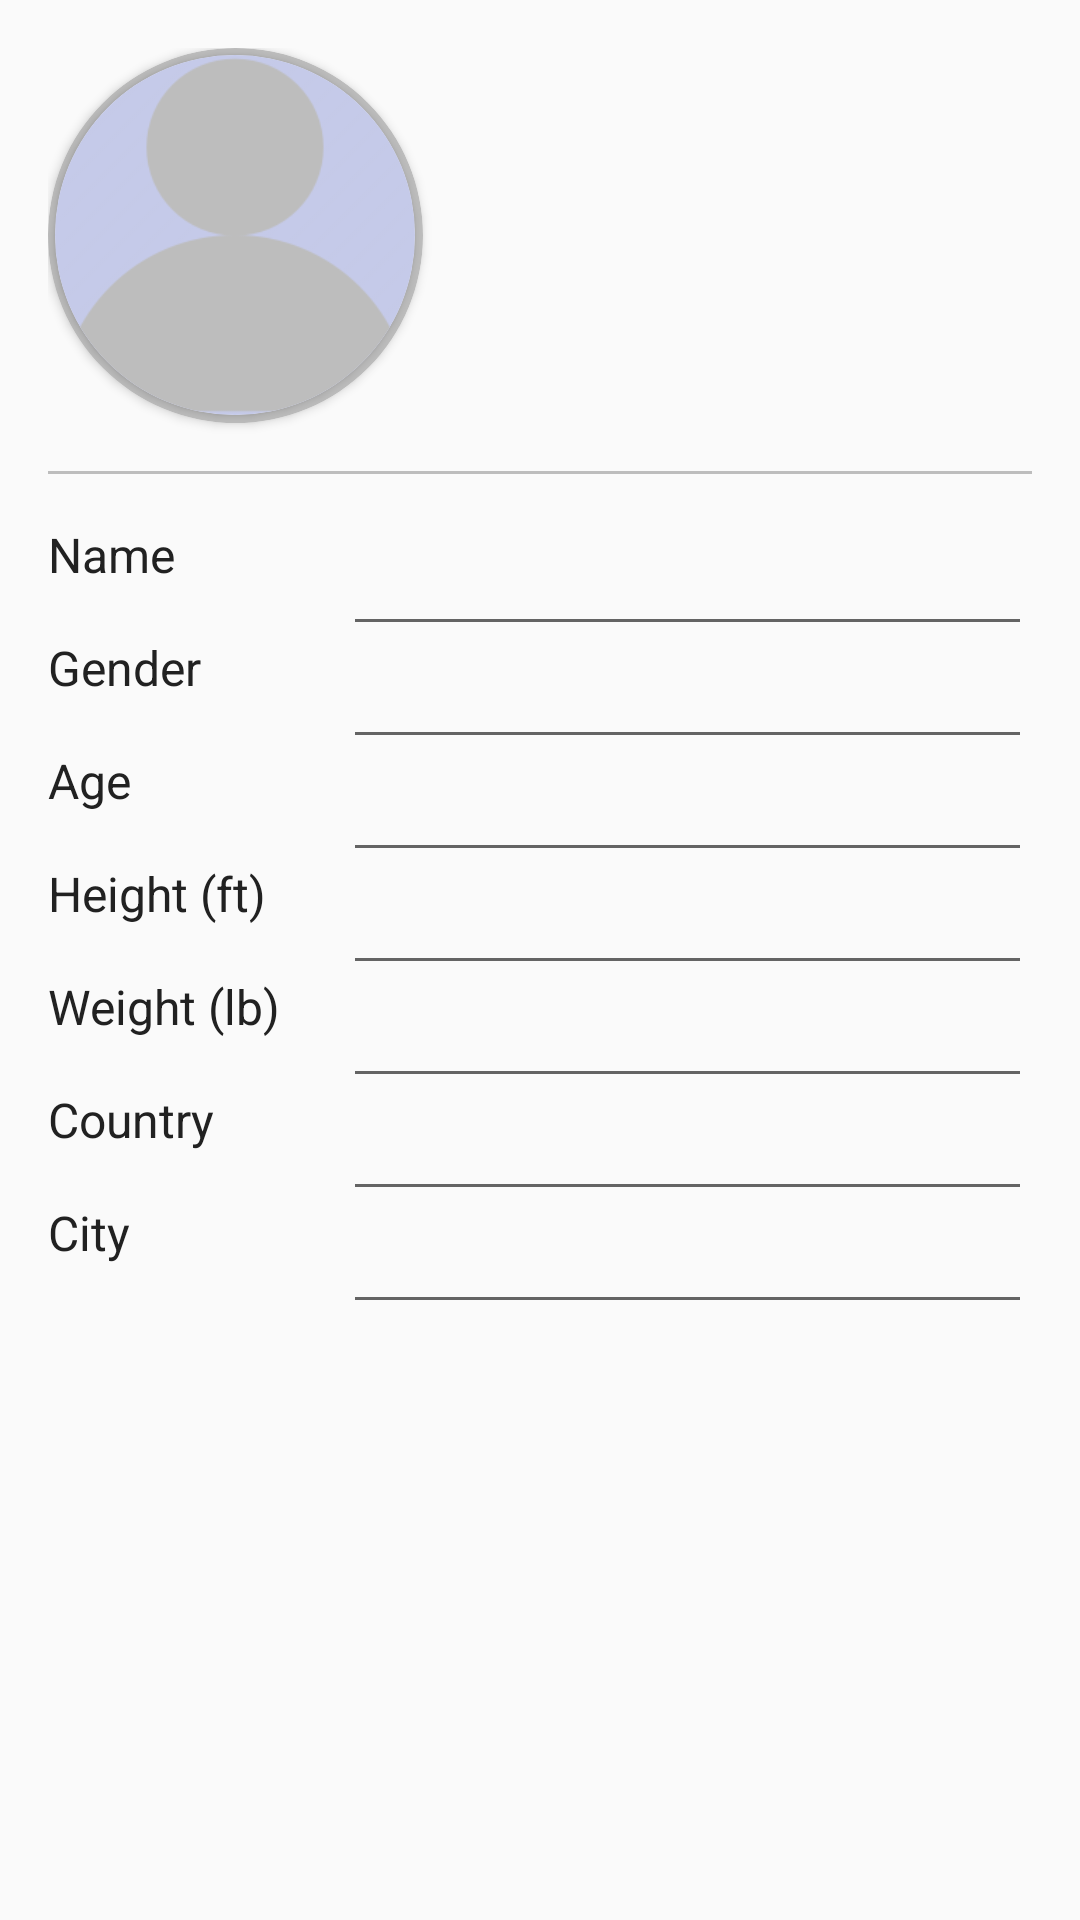

Icons on this 1080 × 1920 Android screen, each with the point to tap as (x,y):
profile: (235,235)
